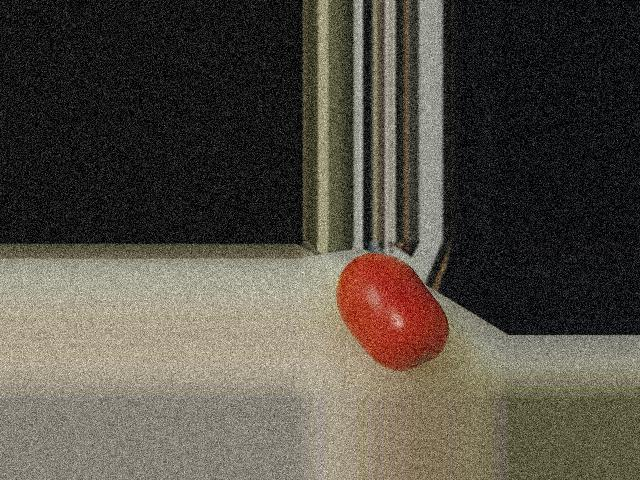tomato: (336, 252, 448, 370)
